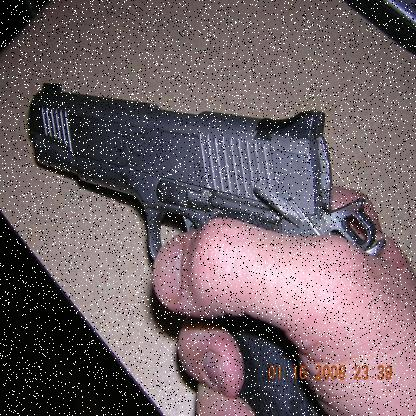pistol: (24, 76, 395, 415)
